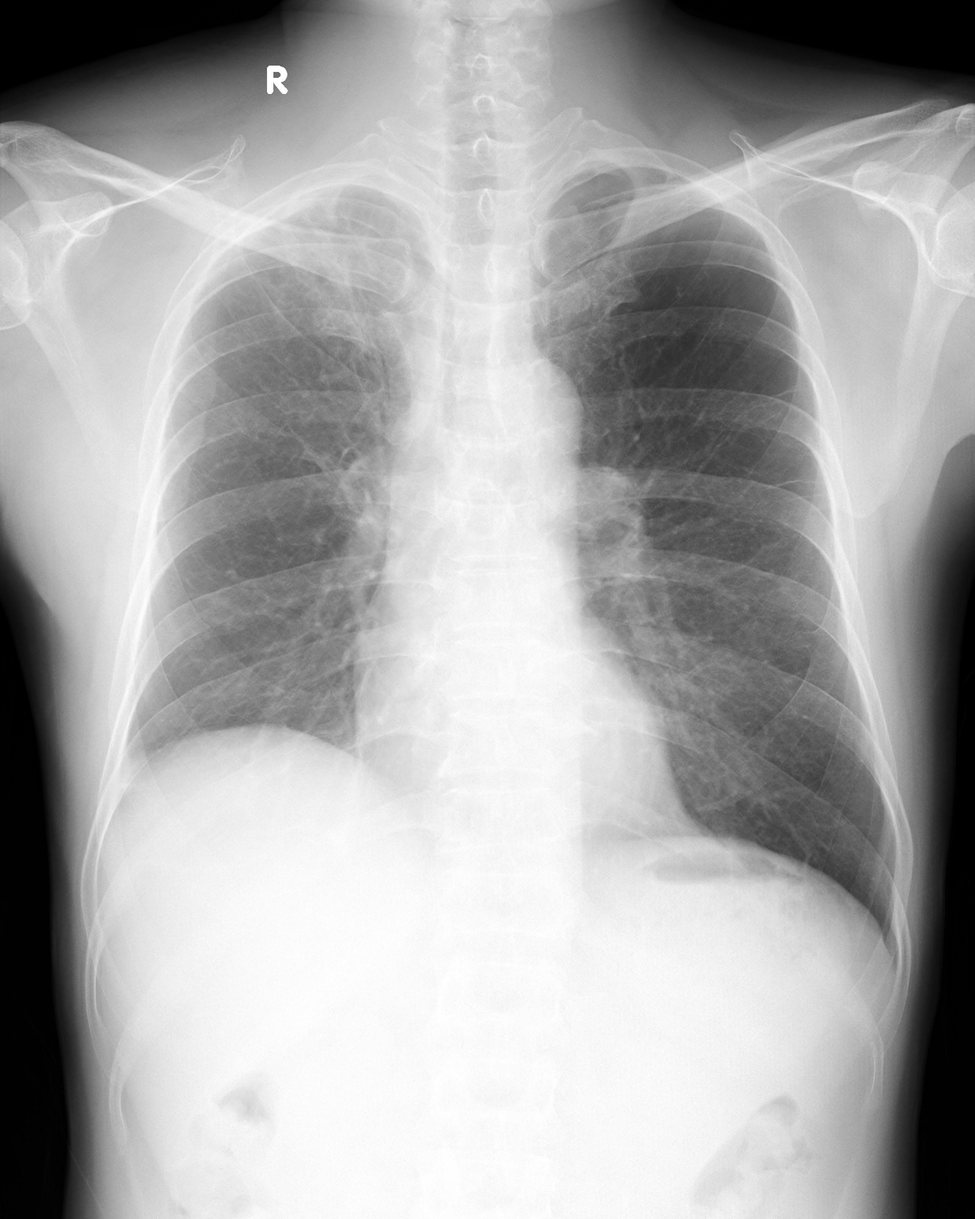Pulmonary fibrosis: (215, 202, 389, 386), (749, 383, 815, 402), (755, 476, 825, 490)
